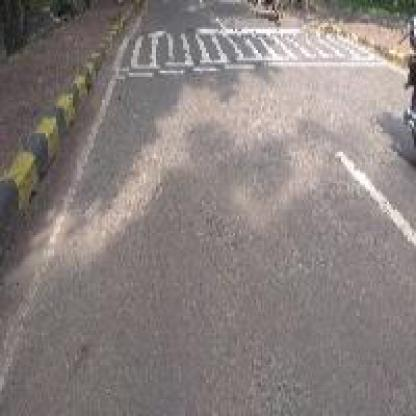Speed Bump: (108, 23, 393, 81)
